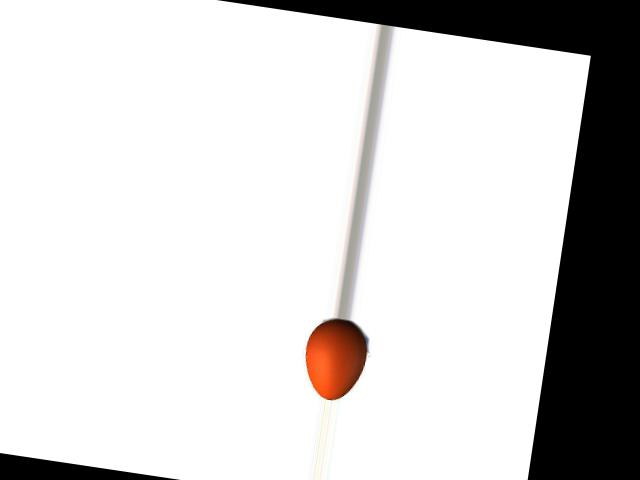egg: (299, 315, 371, 403)
